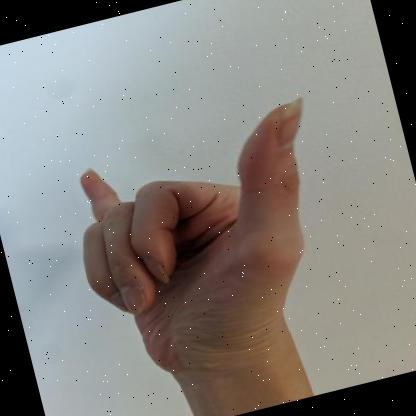Y: (80, 97, 304, 377)
